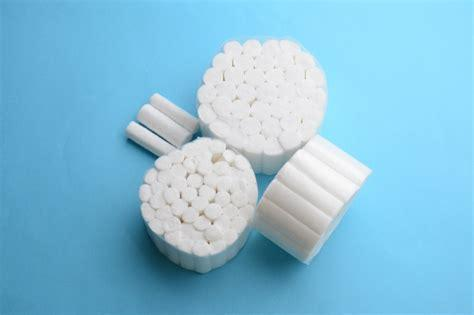cotton: (199, 39, 327, 174), (139, 136, 258, 274), (256, 138, 371, 263), (127, 92, 195, 155)
